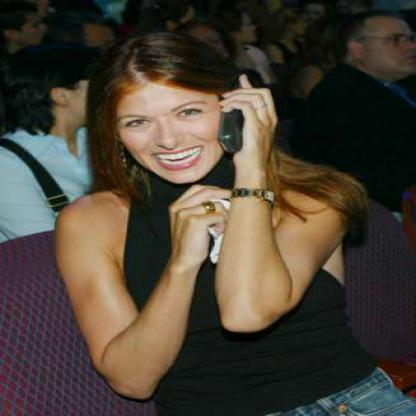face: (111, 55, 236, 187)
